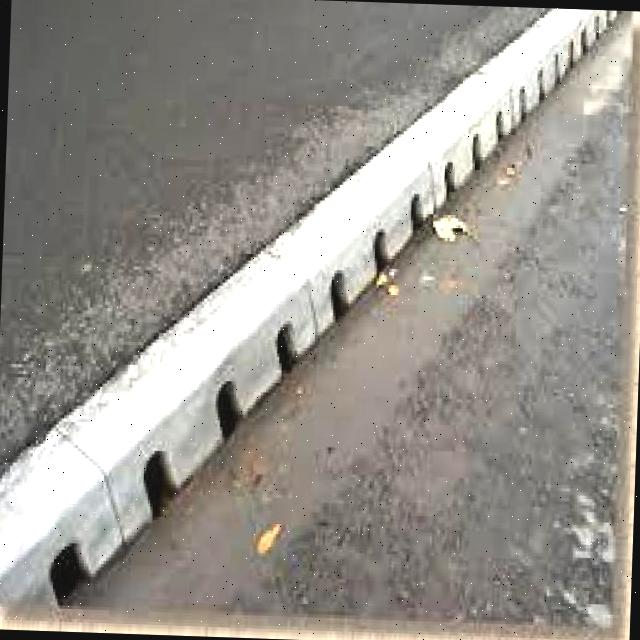curb: (3, 345, 237, 616), (157, 266, 349, 451), (279, 145, 444, 335), (390, 68, 517, 228), (474, 6, 619, 122)
